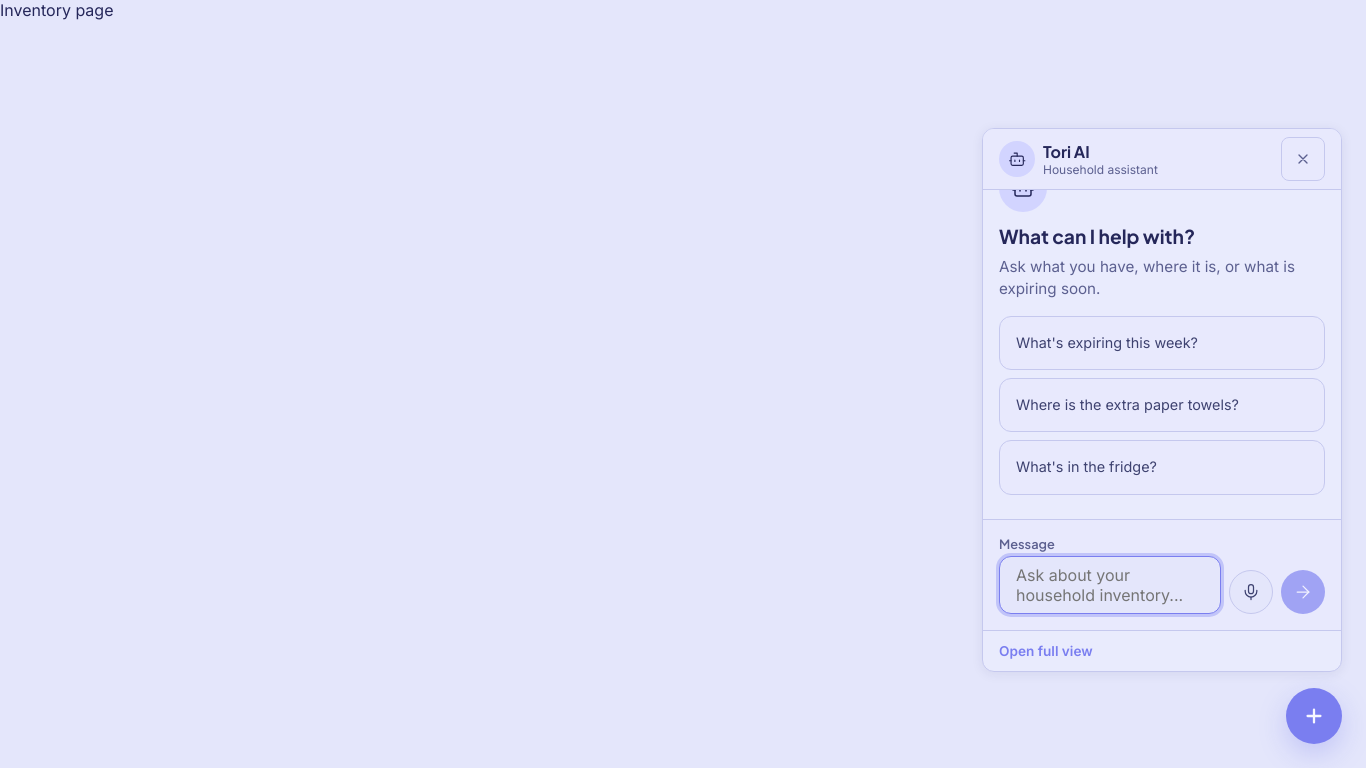
Test case: ToriWidget › clears chat from the widget
(page scrolled)
What coordinates should you click on to do the following:
click the button "What's expiring this week?"
I would click on:
 (1162, 343)
Its box is [999,316,1325,370].
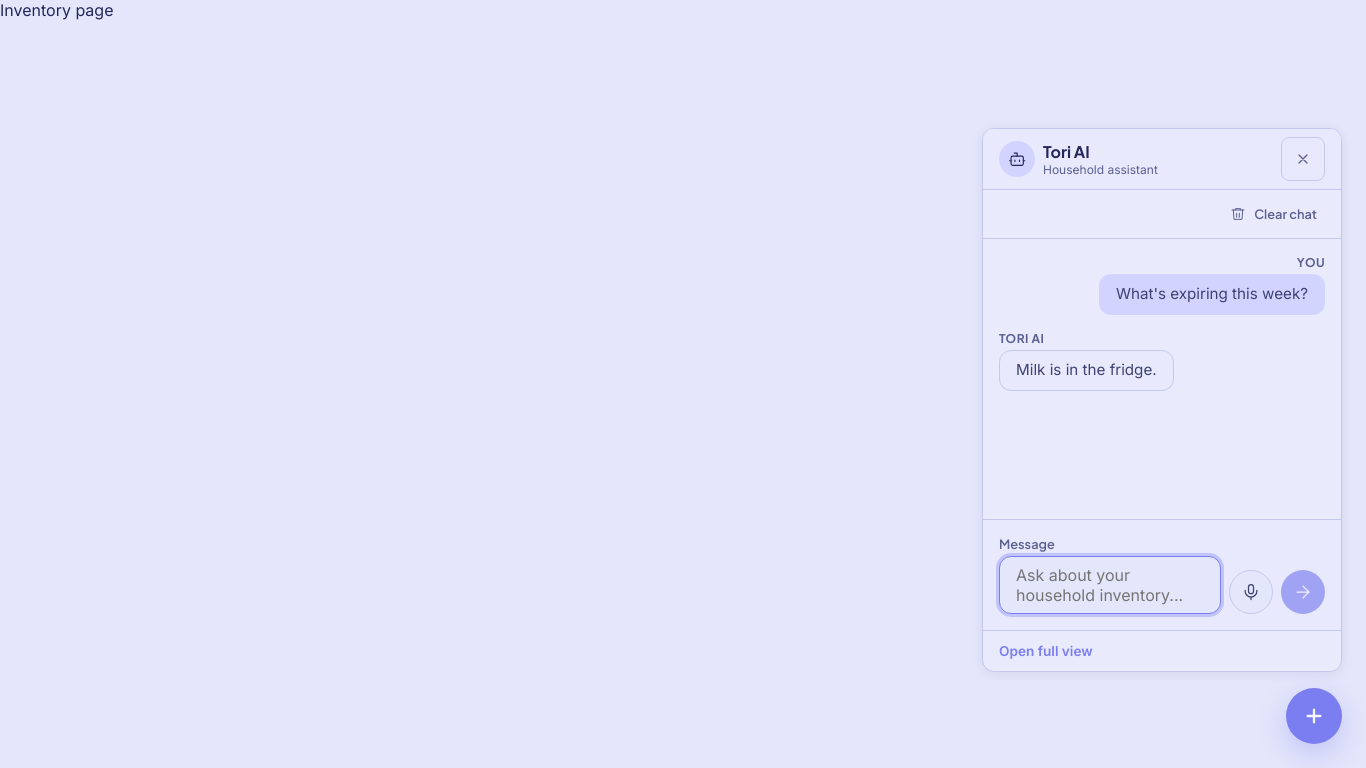
Expected: the text "Milk is in the fridge." is shown, [1016,359,1157,382]
What coordinates should you click on to do the following:
click the button "Clear chat"
I would click on:
 (1274, 214)
Its box is [1222,194,1325,234].
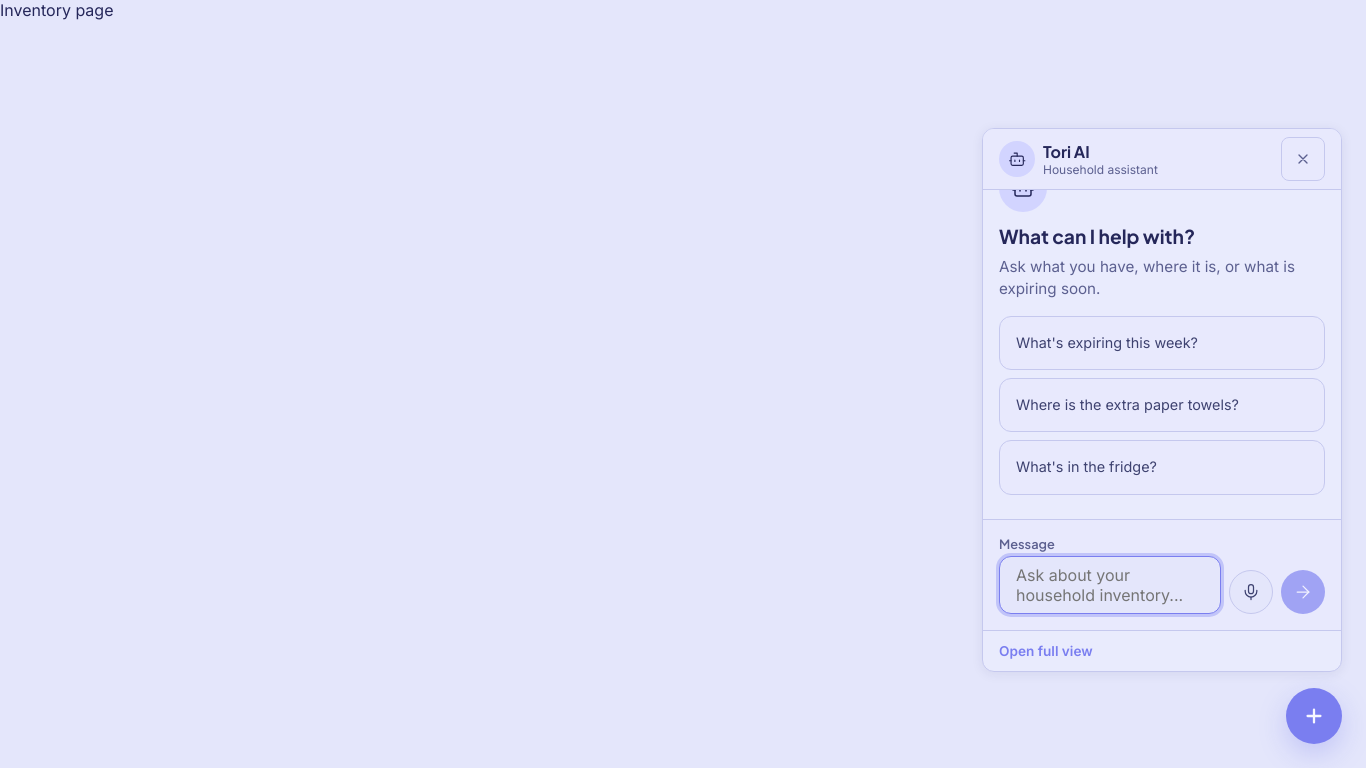
Expected: the text "Milk is in the fridge." is gone
Expected: the text "What can I help with?" is shown, [999,224,1195,248]
